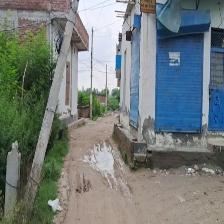Road: (57, 110, 223, 223)
